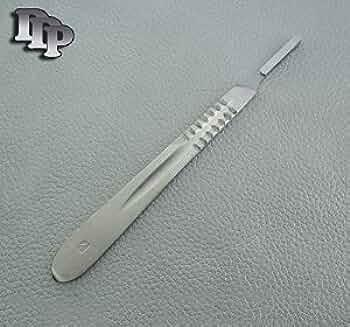Knife Handle: (47, 33, 310, 284)
